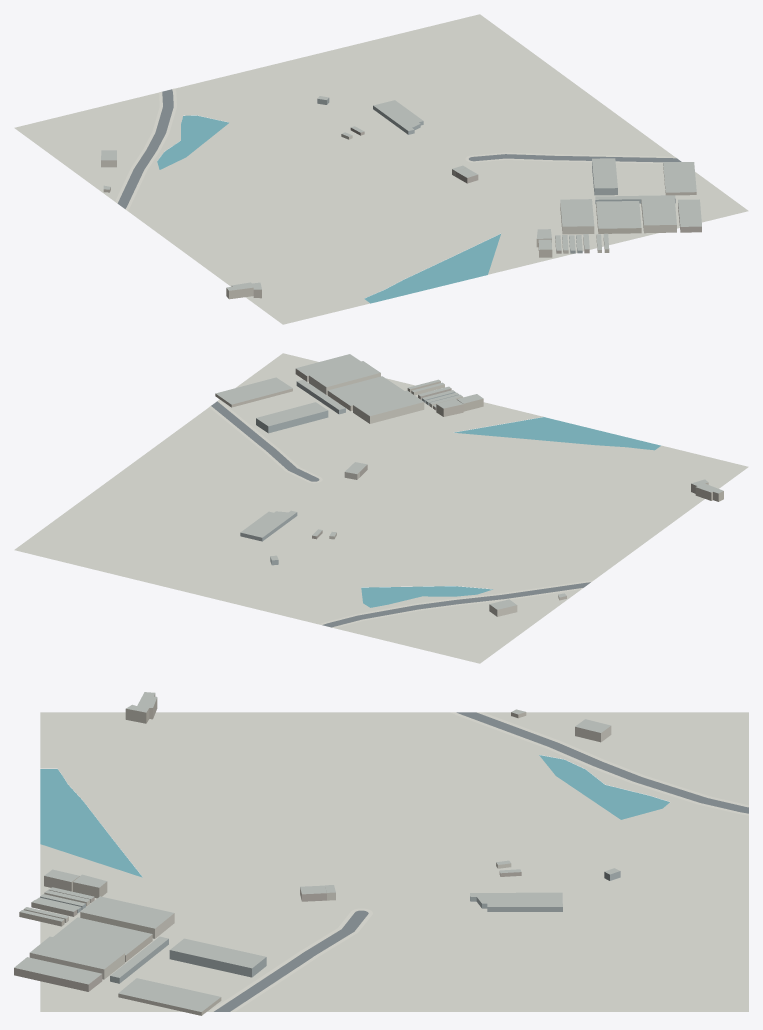
3 renders of one model, top to bottom at view 1: azimuth 30°, elevation 25°; view 2: azimuth 150°, elevation 25°; view 3: azimuth 270°, elevation 25°, orthographic. The views are drawn at different scales.
Visible parts, largest first — view 1: city; view 2: city; view 3: city.
Boxes of the visible parts, <box> form: city: <box>14,14,748,324</box>; city: <box>14,353,748,663</box>; city: <box>14,692,748,1015</box>.
Bounding box in the file's own units: 522 × 8.88 × 519.
